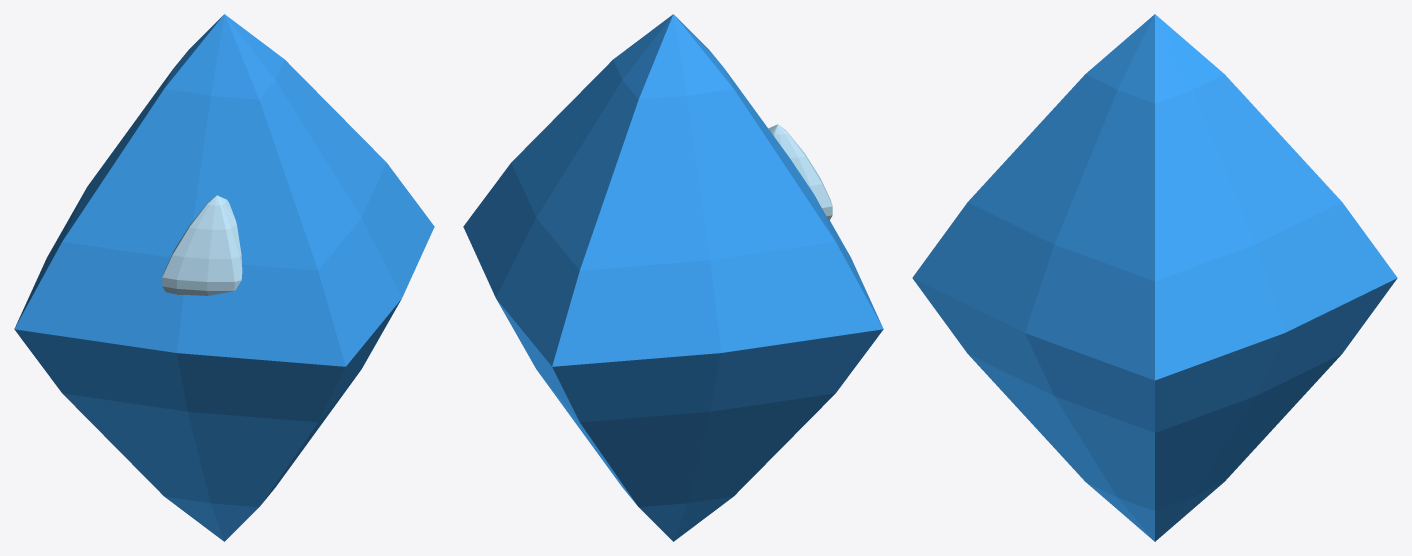
The model's file is gem.glb.
The picture shows the model from 3 angles, left to right: view 1: azimuth 30°, elevation 25°; view 2: azimuth 150°, elevation 25°; view 3: azimuth 270°, elevation 25°; orthographic projection.
Visible parts, largest first — view 1: gem; view 2: gem; view 3: gem.
Boxes of the visible parts, x1,y1,x2,y2 form: gem: (14, 14, 434, 541); gem: (463, 14, 883, 541); gem: (912, 14, 1397, 541).
Bounding box in the file's own units: 0.3 × 0.36 × 0.3.
